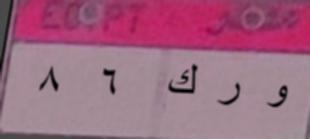6: (101, 63, 119, 100)
8: (29, 63, 64, 102)
kaaf: (165, 54, 200, 101)
raa: (212, 73, 246, 116)
waw: (260, 78, 292, 113)
